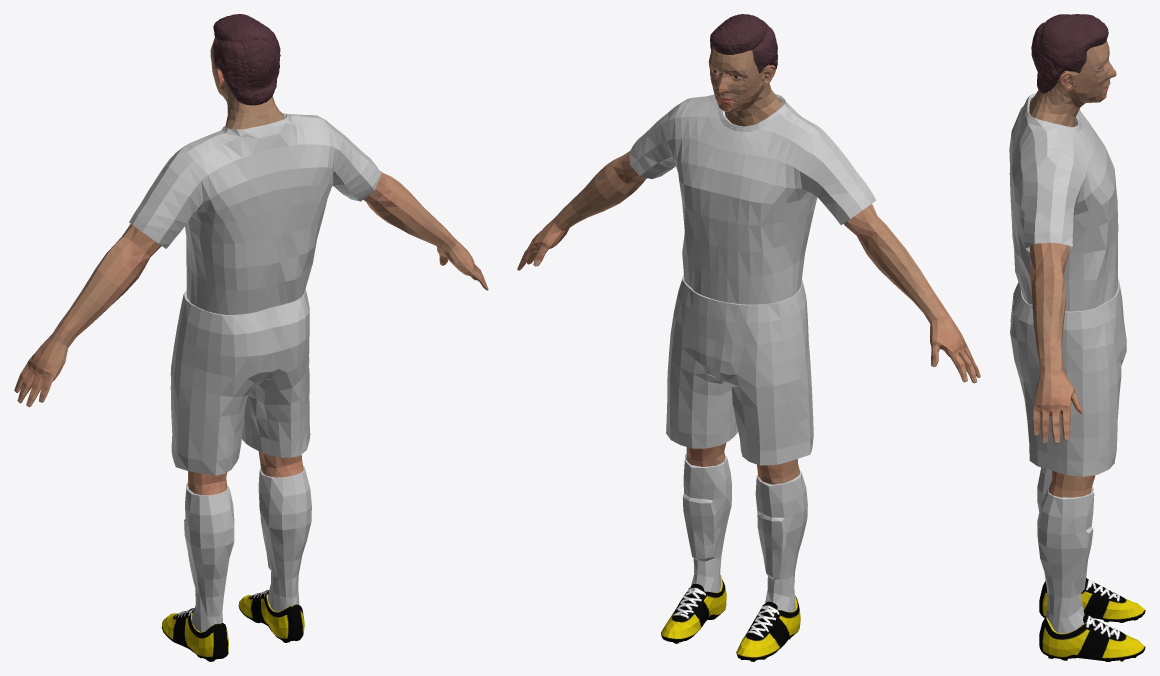
The model's file is short-tucked.obj.
3 renders of one model, left to right at view 1: azimuth 30°, elevation 25°; view 2: azimuth 150°, elevation 25°; view 3: azimuth 270°, elevation 25°, orthographic. The views are drawn at different scales.
Parts seen in each view (by area): view 1: short-tucked, tucked, base_socks, arms, hair_short_04.001, base_boots.001, base_head.002, base_knees; view 2: short-tucked, tucked, base_socks, arms, base_boots.001, base_head.002, hair_short_04.001, base_knees; view 3: short-tucked, tucked, base_socks, arms, base_boots.001, hair_short_04.001, base_head.002, base_knees.
Boxes of the visible parts, x1,y1,x2,y2 form: short-tucked: [129, 113, 381, 314]; tucked: [170, 289, 310, 475]; base_socks: [184, 466, 311, 632]; arms: [14, 171, 488, 407]; hair_short_04.001: [213, 14, 280, 105]; base_boots.001: [161, 590, 304, 661]; base_head.002: [210, 37, 284, 129]; base_knees: [187, 451, 303, 495]; short-tucked: [629, 94, 876, 304]; tucked: [666, 274, 813, 465]; base_socks: [682, 453, 807, 611]; arms: [517, 151, 980, 383]; base_boots.001: [661, 575, 800, 661]; base_head.002: [708, 45, 781, 126]; hair_short_04.001: [710, 14, 777, 73]; base_knees: [686, 443, 799, 484]; short-tucked: [1009, 93, 1118, 311]; tucked: [1010, 279, 1126, 476]; base_socks: [1037, 467, 1094, 633]; arms: [1029, 242, 1083, 443]; base_boots.001: [1039, 578, 1145, 661]; hair_short_04.001: [1031, 14, 1108, 93]; base_head.002: [1029, 40, 1116, 127]; base_knees: [1048, 470, 1095, 497].
Size of the model in its own units: 1.44 by 1.84 by 0.3669.
